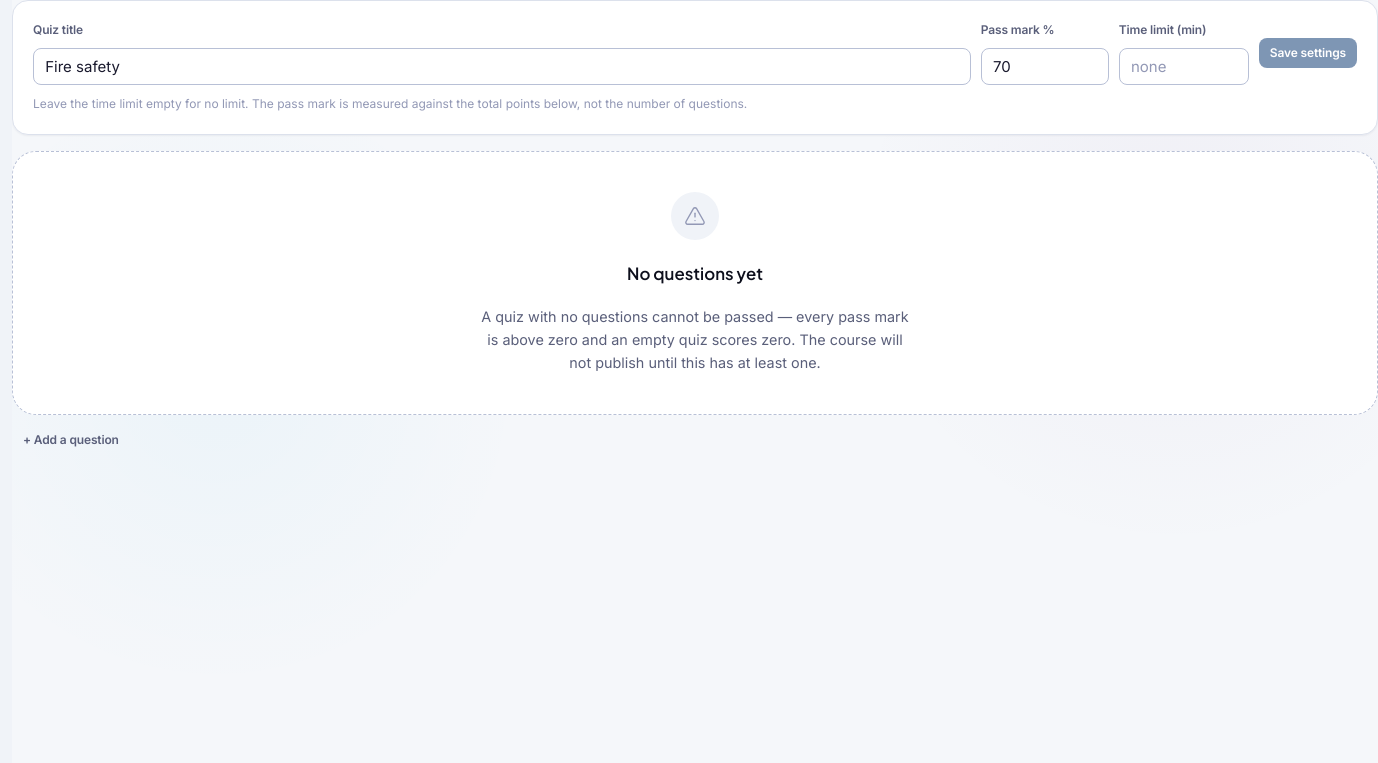
Scenario: writing a question › will not go below two options
Click the button "+ Add a question" at [71, 440], box [12,425,130,455]
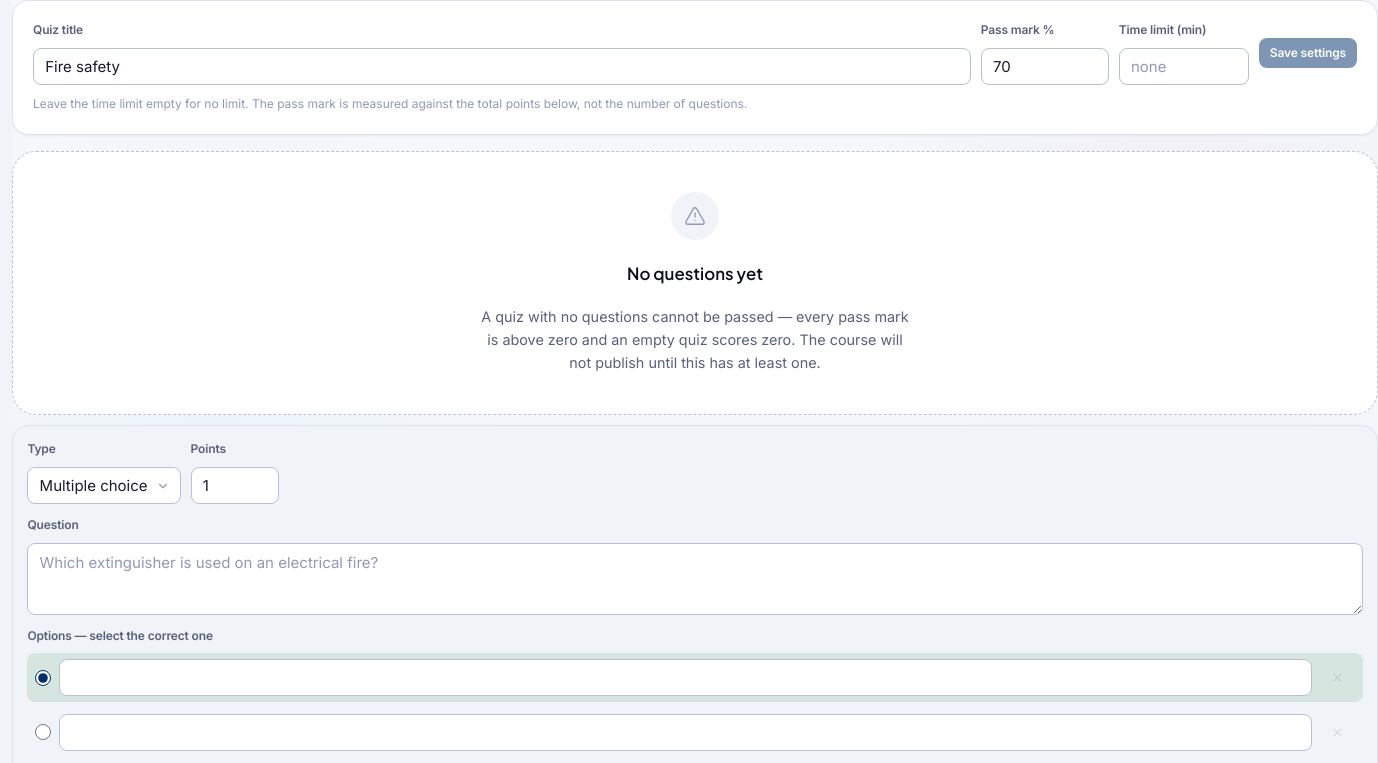
Now the button named "Remove option 1" is disabled, box [1320,663,1355,693]
